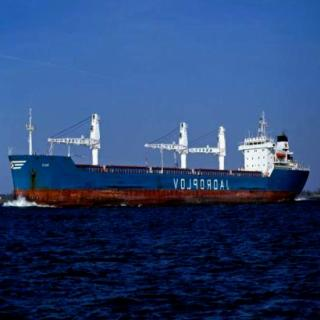Bulk Carrier: (3, 98, 311, 202)
